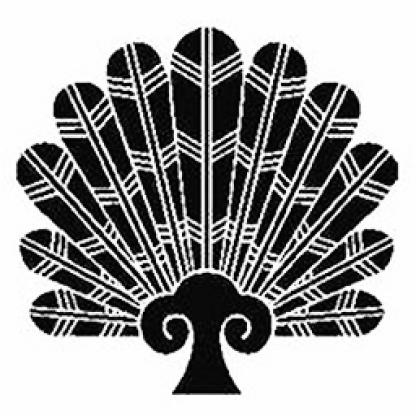kamon: (12, 23, 398, 395)
